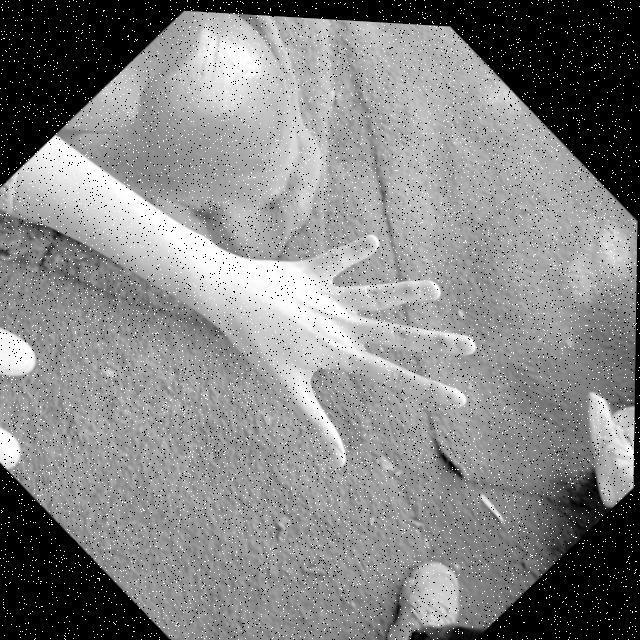no-gloves: (190, 168, 514, 504)
